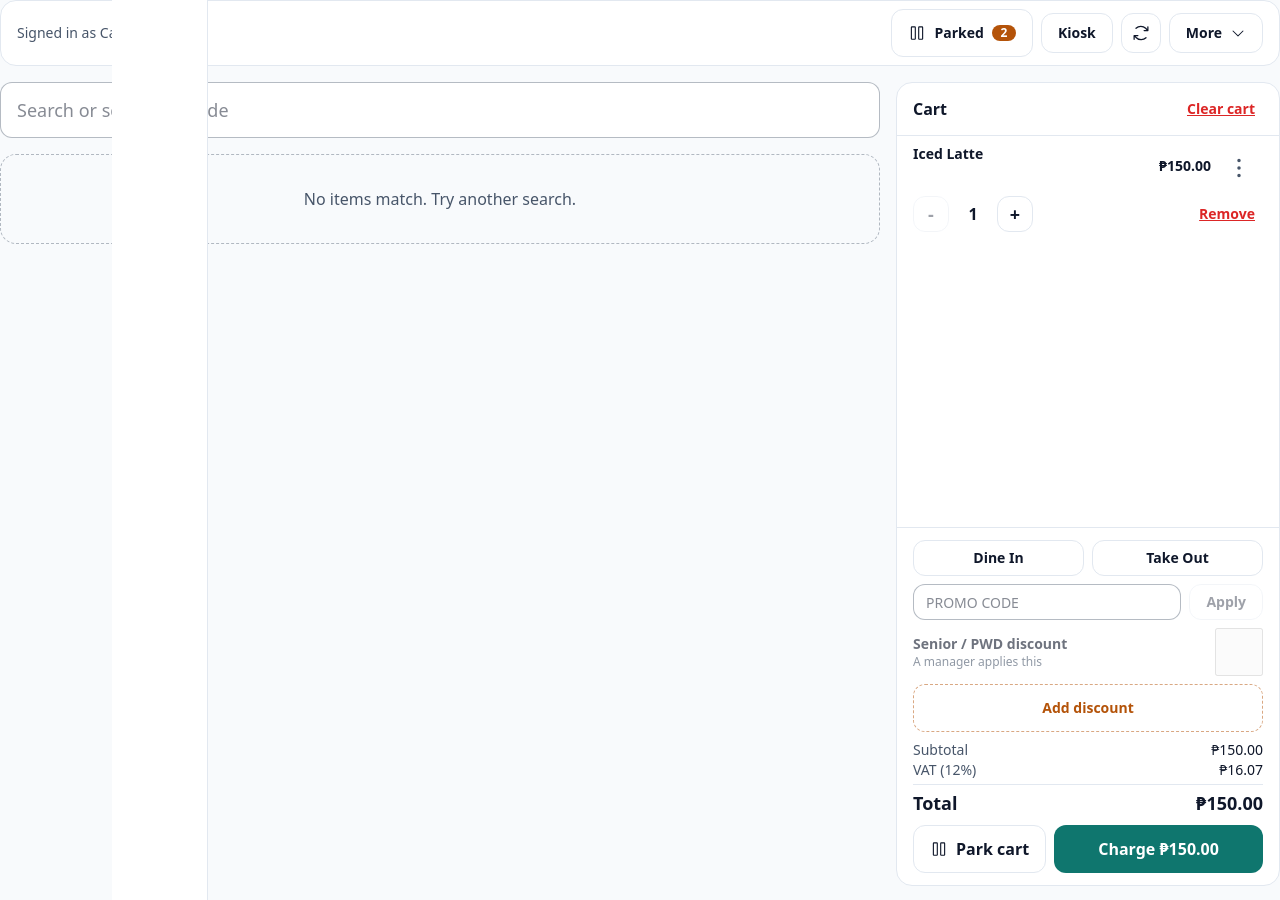
Test: Parked carts drawer › lists parked carts with label, time, who parked it, line count and total
Click the button with aria-label "Parked carts, 2 waiting". click: (962, 33)
box: [892,9,1033,57]
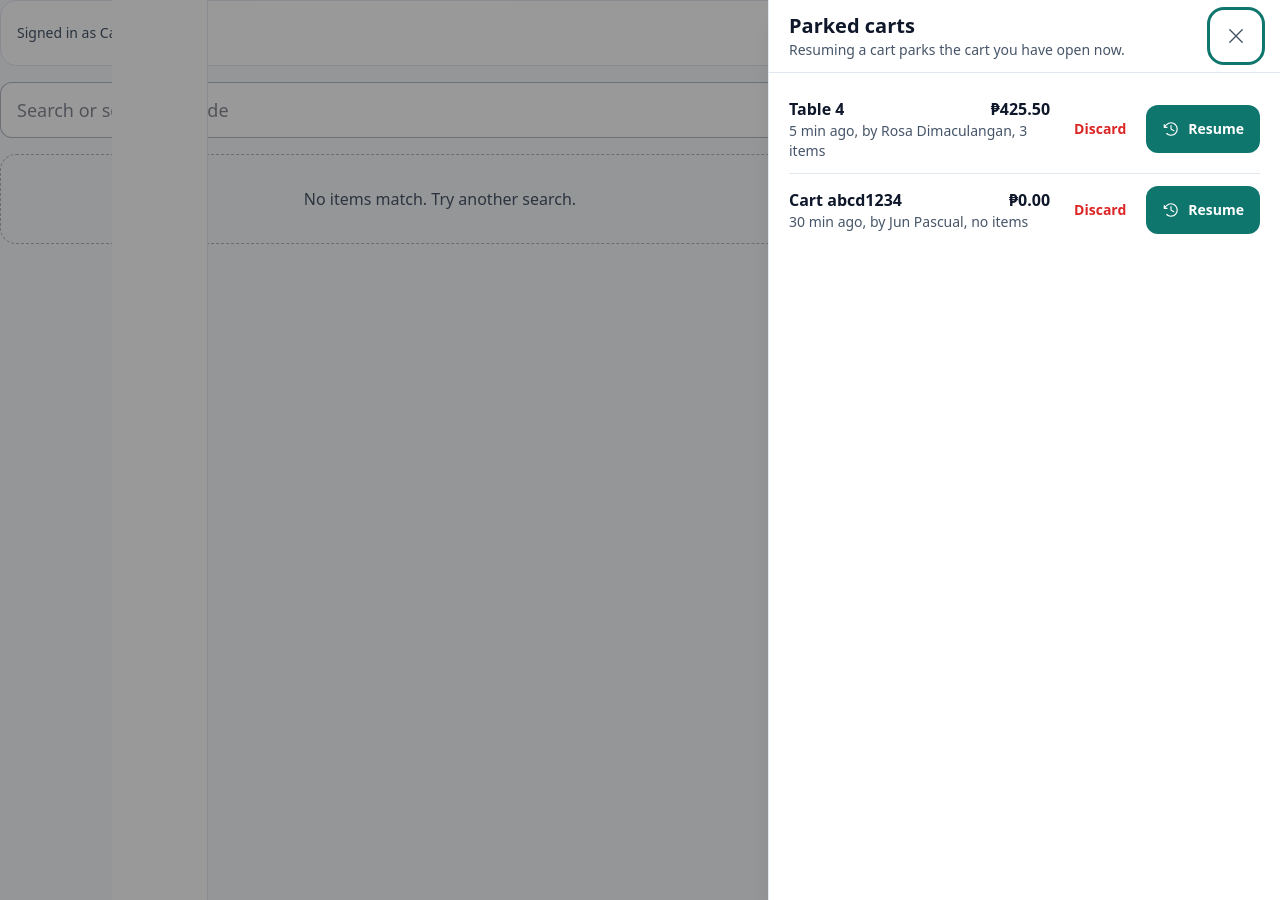
Now the text "Table 4" is shown, box [789,97,844,121]
Now the text "5 min ago" is shown, box [789,121,855,140]
Now the text "5 min ago, by Rosa Dimaculangan, 3 items" is shown, box [789,121,1050,161]
